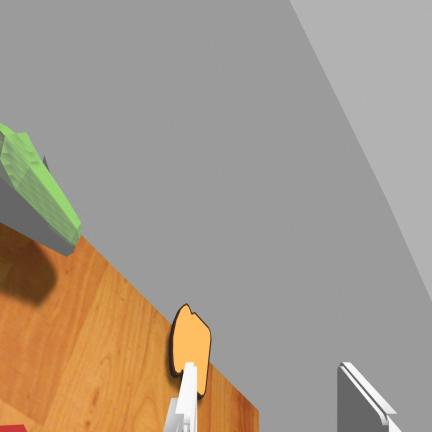lettuce: (0, 124, 81, 254)
sliced_bread: (169, 304, 211, 401)
sliced_tomato: (0, 424, 27, 431)
